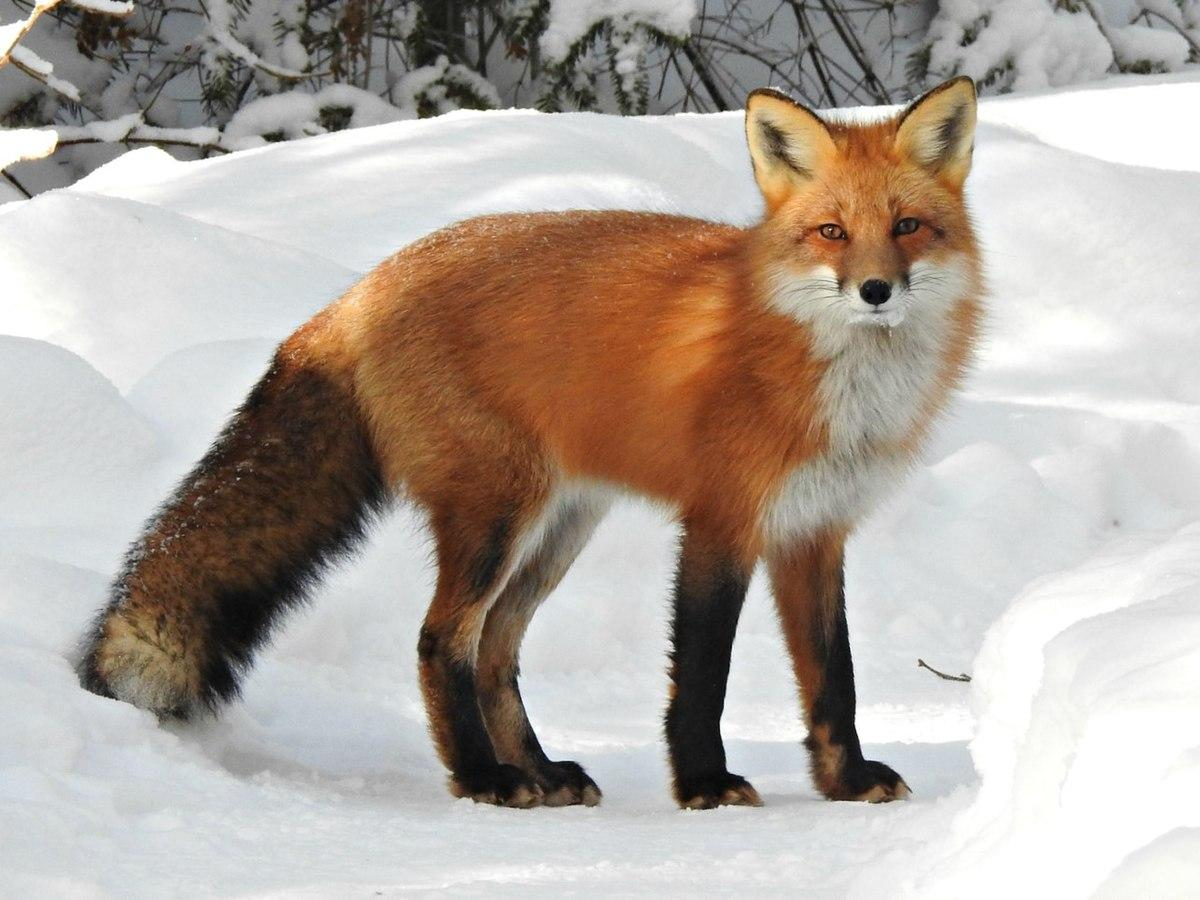fox: (73, 71, 990, 823)
